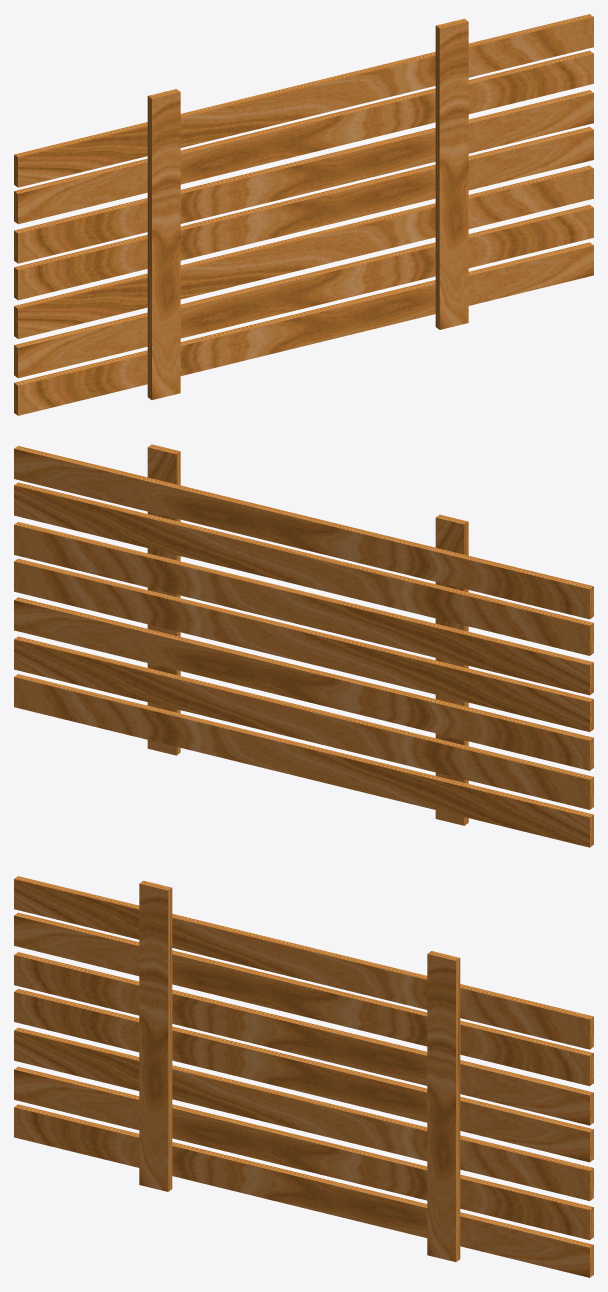
The model's file is schuttingRecht.obj.
3 views of the same model, one above another, from view 1: azimuth 30°, elevation 25°; view 2: azimuth 150°, elevation 25°; view 3: azimuth 330°, elevation 25° (orthographic).
Visible parts, largest first — view 1: Cube.001_Cube.003, Cube.003_Cube.005, Cube.004_Cube.006, Cube.005_Cube.007, Cube_Cube.002, Cube.006_Cube.011, Cube.002_Cube.004, Cube.007_Cube.009, Cube.008_Cube.010; view 2: Cube_Cube.002, Cube.002_Cube.004, Cube.003_Cube.005, Cube.006_Cube.011, Cube.004_Cube.006, Cube.005_Cube.007, Cube.001_Cube.003, Cube.007_Cube.009, Cube.008_Cube.010; view 3: Cube.001_Cube.003, Cube.003_Cube.005, Cube.004_Cube.006, Cube.005_Cube.007, Cube_Cube.002, Cube.006_Cube.011, Cube.002_Cube.004, Cube.008_Cube.010, Cube.007_Cube.009.
Boxes of the visible parts, bbox=[...] form: Cube.001_Cube.003: bbox=[14, 204, 593, 378]; Cube.003_Cube.005: bbox=[14, 90, 593, 263]; Cube.004_Cube.006: bbox=[14, 50, 593, 224]; Cube.005_Cube.007: bbox=[14, 14, 593, 187]; Cube_Cube.002: bbox=[14, 242, 593, 415]; Cube.006_Cube.011: bbox=[14, 127, 593, 300]; Cube.002_Cube.004: bbox=[14, 165, 593, 338]; Cube.007_Cube.009: bbox=[147, 89, 180, 399]; Cube.008_Cube.010: bbox=[435, 18, 468, 329]; Cube_Cube.002: bbox=[14, 674, 593, 847]; Cube.002_Cube.004: bbox=[14, 597, 593, 770]; Cube.003_Cube.005: bbox=[14, 522, 593, 695]; Cube.006_Cube.011: bbox=[14, 558, 593, 731]; Cube.004_Cube.006: bbox=[14, 482, 593, 655]; Cube.005_Cube.007: bbox=[14, 446, 593, 619]; Cube.001_Cube.003: bbox=[14, 636, 593, 809]; Cube.007_Cube.009: bbox=[435, 514, 468, 825]; Cube.008_Cube.010: bbox=[147, 444, 180, 755]; Cube.001_Cube.003: bbox=[14, 1066, 593, 1240]; Cube.003_Cube.005: bbox=[14, 952, 593, 1125]; Cube.004_Cube.006: bbox=[14, 912, 593, 1086]; Cube.005_Cube.007: bbox=[14, 876, 593, 1049]; Cube_Cube.002: bbox=[14, 1104, 593, 1277]; Cube.006_Cube.011: bbox=[14, 989, 593, 1162]; Cube.002_Cube.004: bbox=[14, 1027, 593, 1200]; Cube.008_Cube.010: bbox=[427, 951, 460, 1261]; Cube.007_Cube.009: bbox=[139, 880, 172, 1191].
Size of the model in its own units: 4 by 2 by 0.1.
9 materials, 9 textured.
